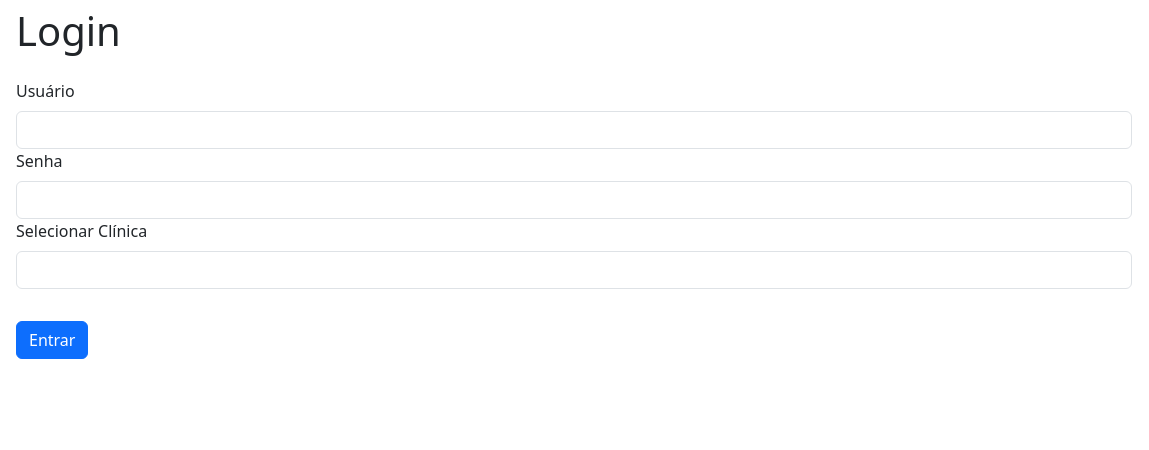
Test case: Login Component › displays error message on failed login
In the field labelled "Usuário": (574, 130) top-left (16, 111), bottom-right (1132, 149), type "testuser"
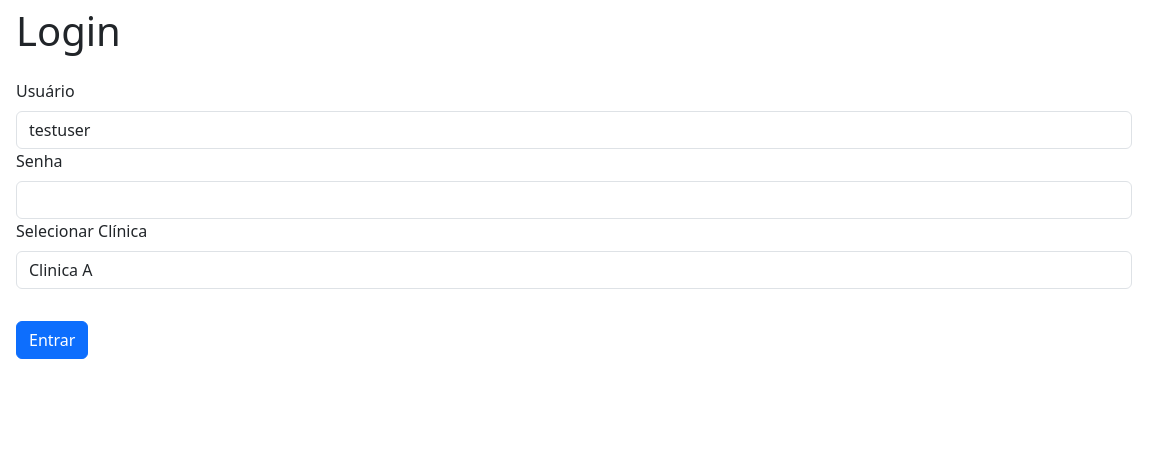
In the password field labelled "Senha": (574, 200) top-left (16, 181), bottom-right (1132, 219), type "wrongpassword"
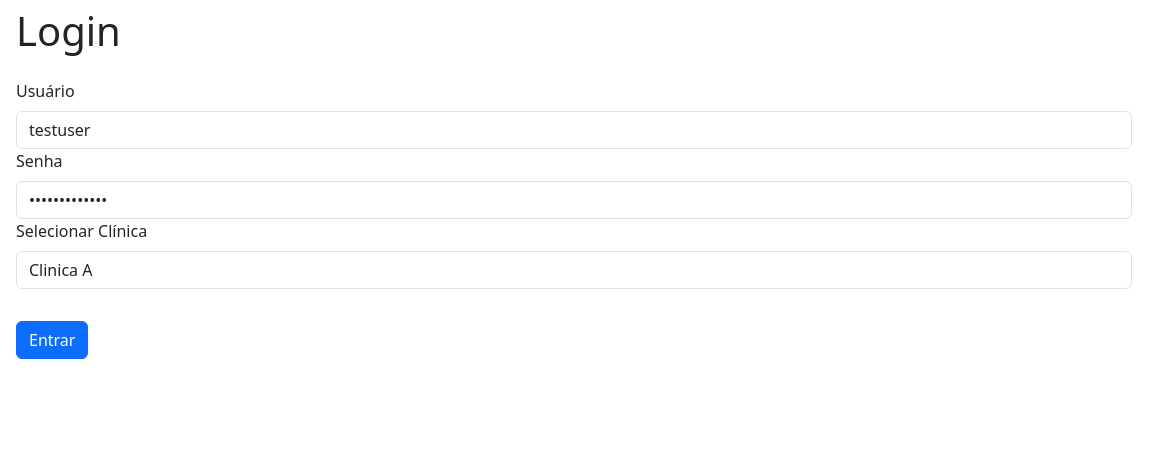
Click the button "Entrar": (52, 340) top-left (16, 321), bottom-right (88, 359)
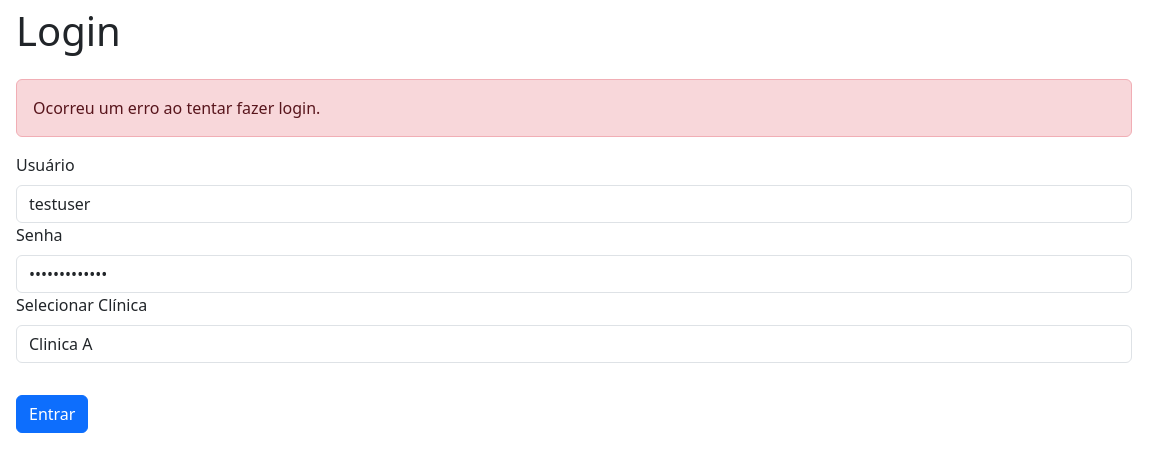
expect the message reads "Ocorreu um erro ao tentar fazer login.": met, box top-left (33, 97), bottom-right (320, 119)
